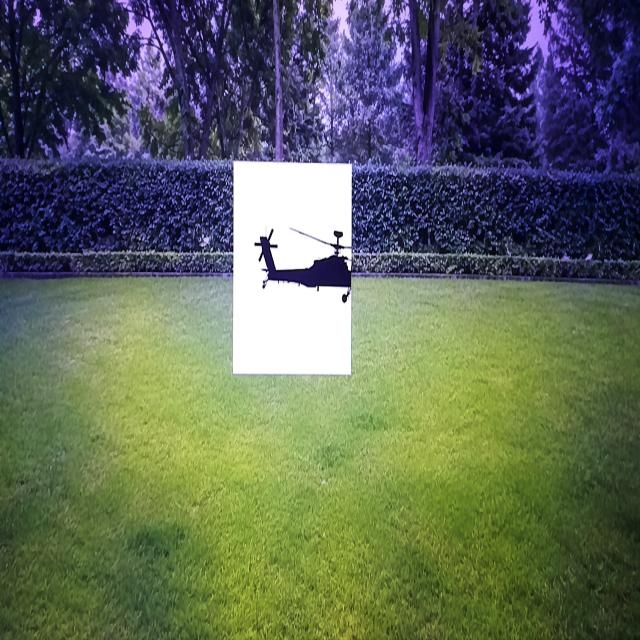Apache friendly: (255, 229, 351, 302)
